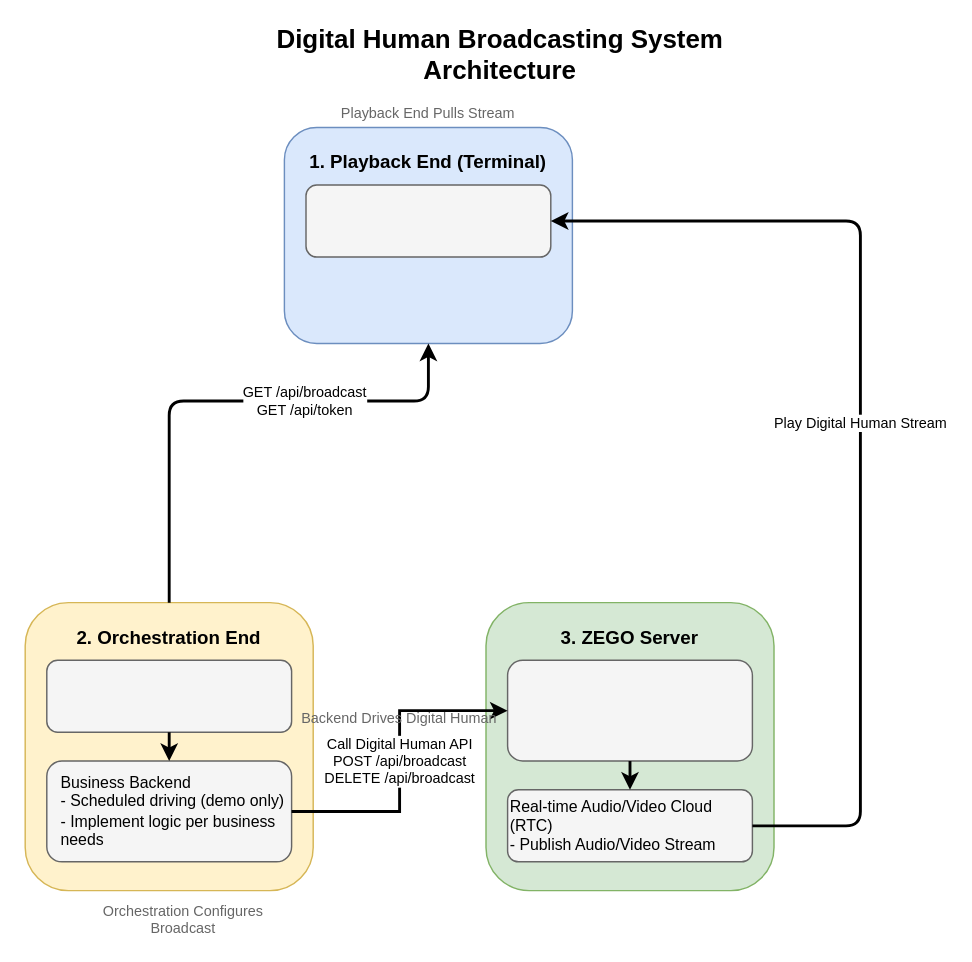
Some shapes in this 972 by 962 pixel diagram are drawn without their labels. The box of each missing label's shape, as (x1, y1, x2, y2) in pixels:
Digital Human API - Create Stream Task - Text Drive - Stop Task: (506, 659, 752, 761)
Orchestration Panel (Web UI): (45, 659, 292, 732)
ZEGO Express SDK Play Stream: (305, 184, 551, 257)
